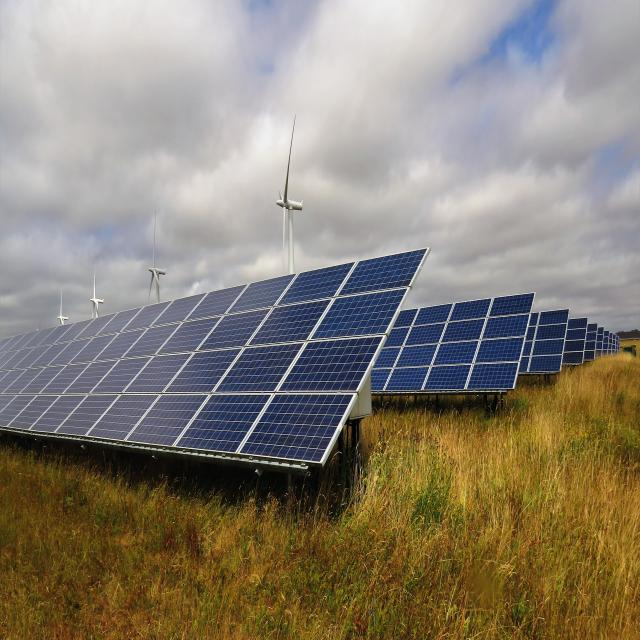clean-solar-panel: (178, 249, 428, 465)
dust-solar-panel: (0, 284, 246, 443)
